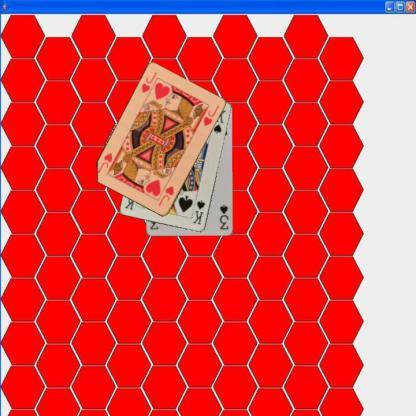3s: (218, 202, 230, 231)
Jh: (138, 69, 160, 99), (155, 184, 175, 208)
Ks: (190, 198, 206, 226)
